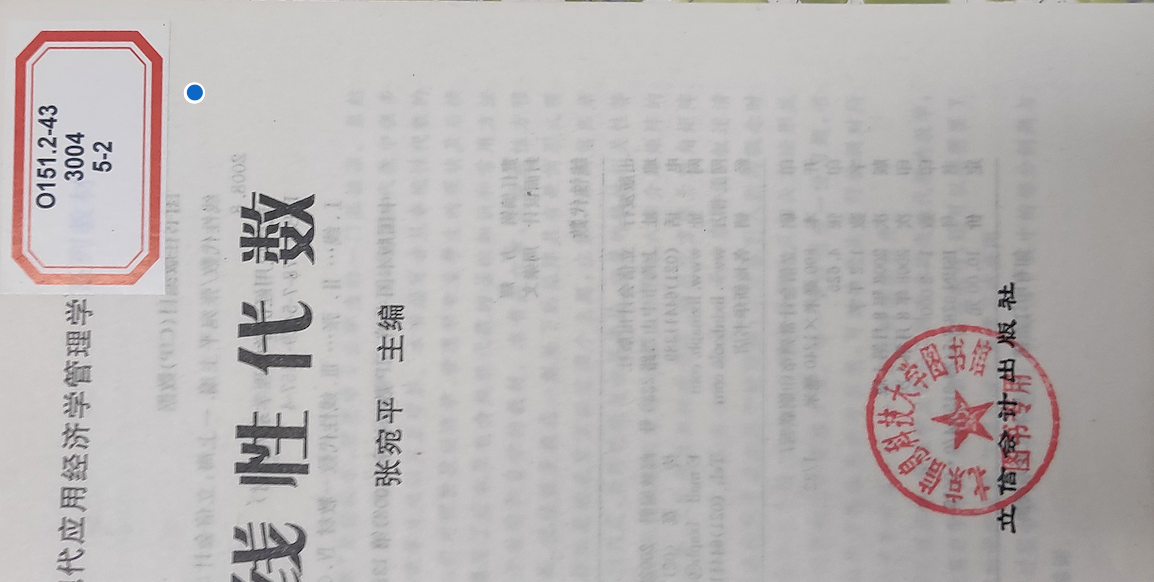Text_area: (222, 188, 407, 582), (866, 264, 1102, 561), (14, 22, 178, 297), (51, 288, 97, 578)
